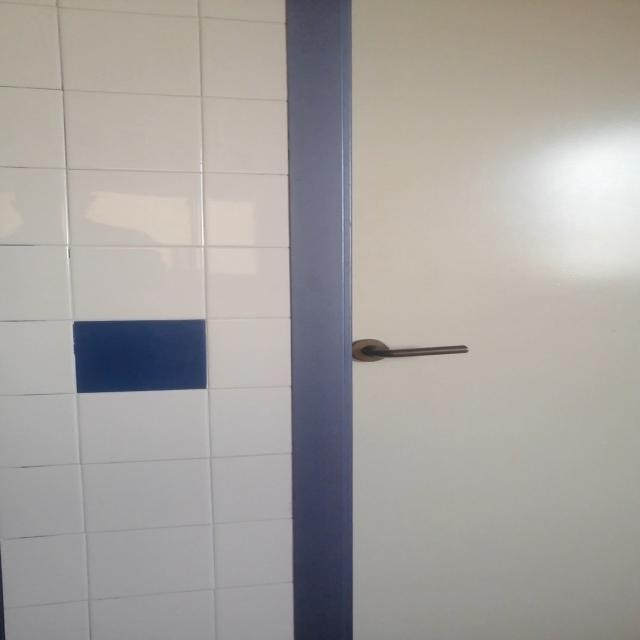door_handle: (361, 343, 472, 361)
